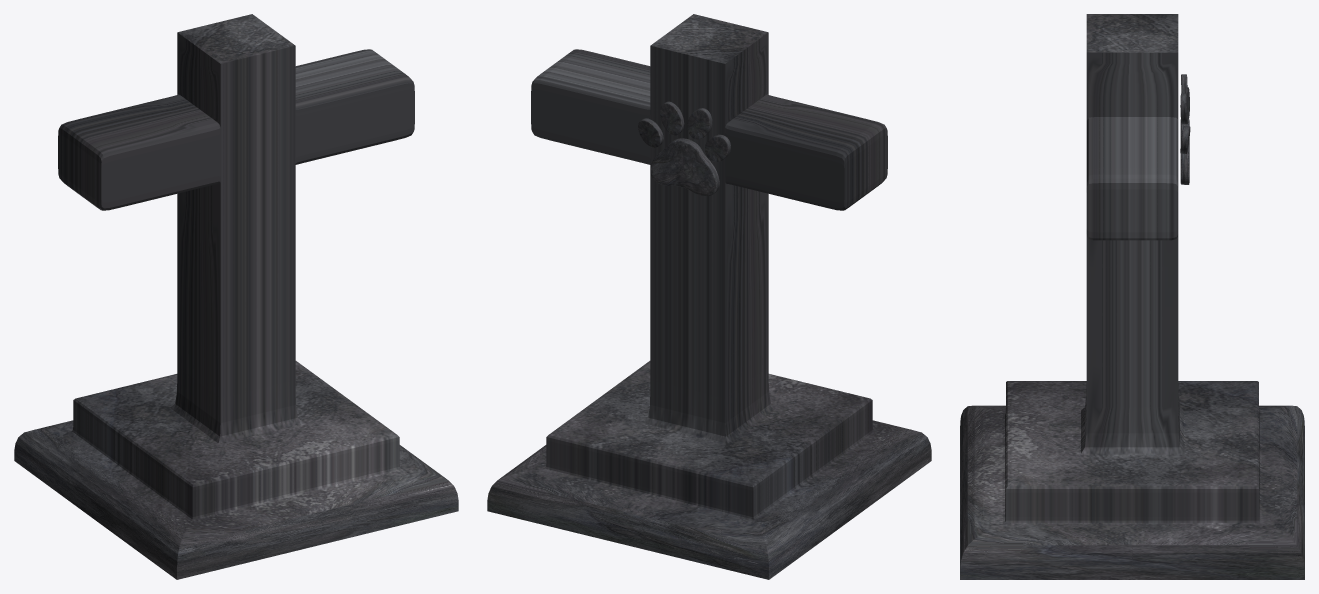
File: Tumba_Cruz.fbx
3 renders of one model, left to right at view 1: azimuth 30°, elevation 25°; view 2: azimuth 150°, elevation 25°; view 3: azimuth 270°, elevation 25°, orthographic. The views are drawn at different scales.
Visible parts, largest first — view 1: Cubo.001; view 2: Cubo.001; view 3: Cubo.001.
Boxes of the visible parts, box(x1,y1,x2,y2) form: Cubo.001: box(14, 14, 458, 579); Cubo.001: box(487, 14, 931, 579); Cubo.001: box(960, 14, 1304, 579).
Bounding box in the file's own units: 5.35 × 7.28 × 4.8.
1 material, 1 textured.
